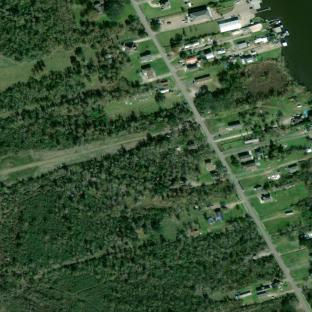Floresta: (1, 126, 295, 312), (0, 48, 193, 148), (0, 0, 78, 61), (192, 67, 288, 116)
